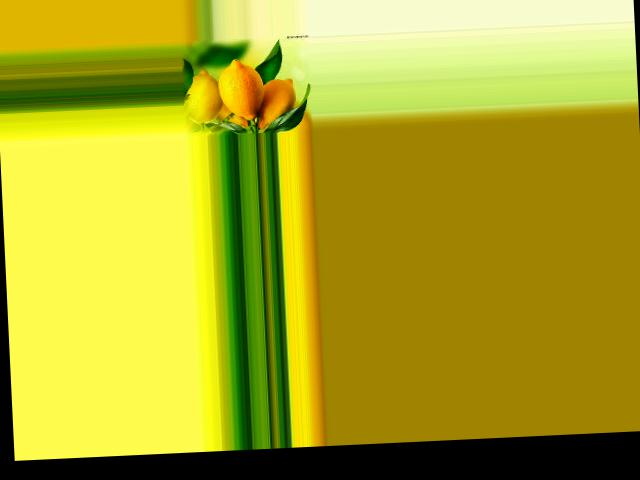lemon: (186, 65, 222, 127)
